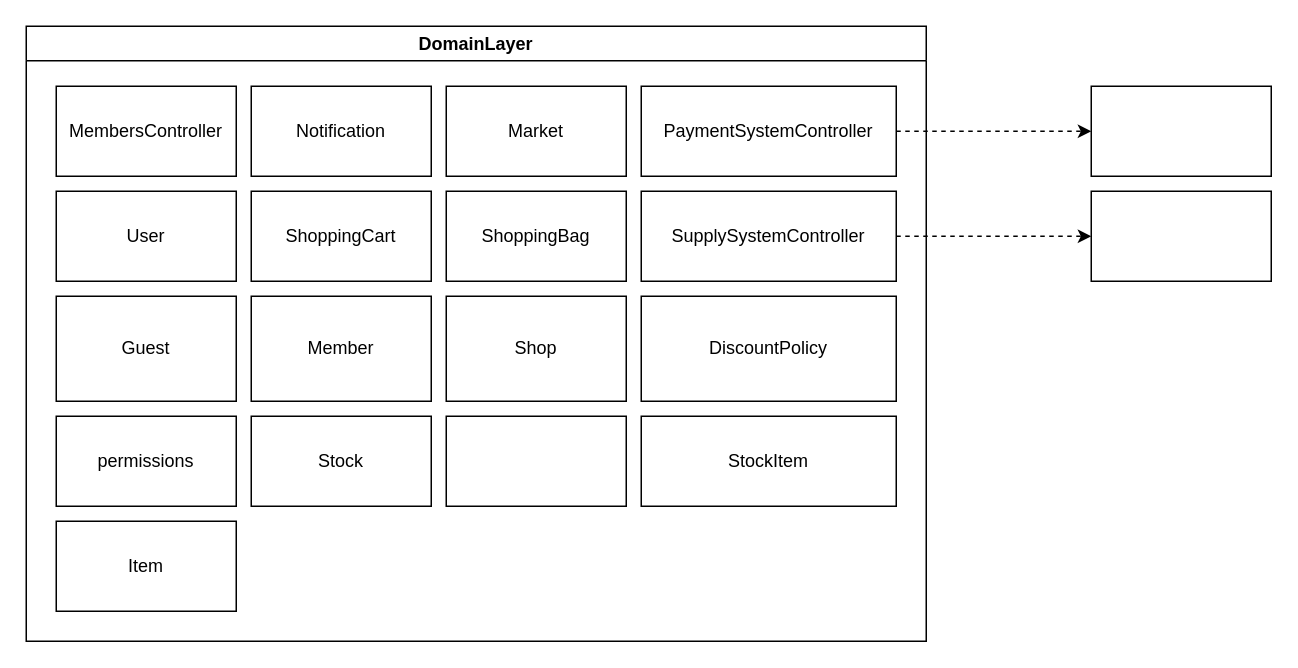
This 1298x668 diagram has some shape labels left out. The centre of each missing label's shape, as x and y in pixels:
"PaymentSystem" belongs at (1180,130).
"ShopPolicy" belongs at (535,460).
"SupplySystem" belongs at (1180,235).
